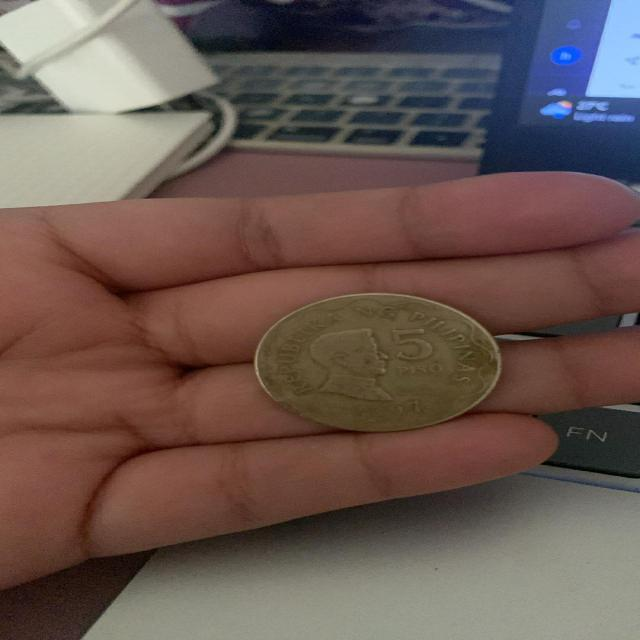5 peso-old: (246, 282, 506, 436)
